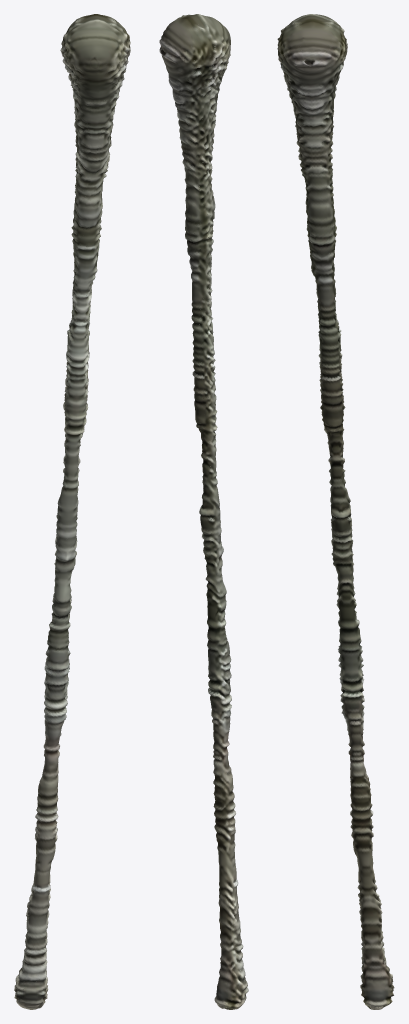
Rendered from kfl-2262.glb.
3 renders of one model, left to right at view 1: azimuth 90°, elevation 25°; view 2: azimuth 210°, elevation 25°; view 3: azimuth 270°, elevation 25°, orthographic. The views are drawn at different scales.
Visible parts, largest first — view 1: kfl-2262; view 2: kfl-2262; view 3: kfl-2262.
Part boxes in pixels (left/top/right/bottom): kfl-2262: left=14, top=14, right=130, bottom=1009; kfl-2262: left=159, top=14, right=248, bottom=1009; kfl-2262: left=277, top=14, right=394, bottom=1009.
Size of the model in its own units: 0.0687 by 0.9886 by 0.1056.
1 material, 1 textured.
